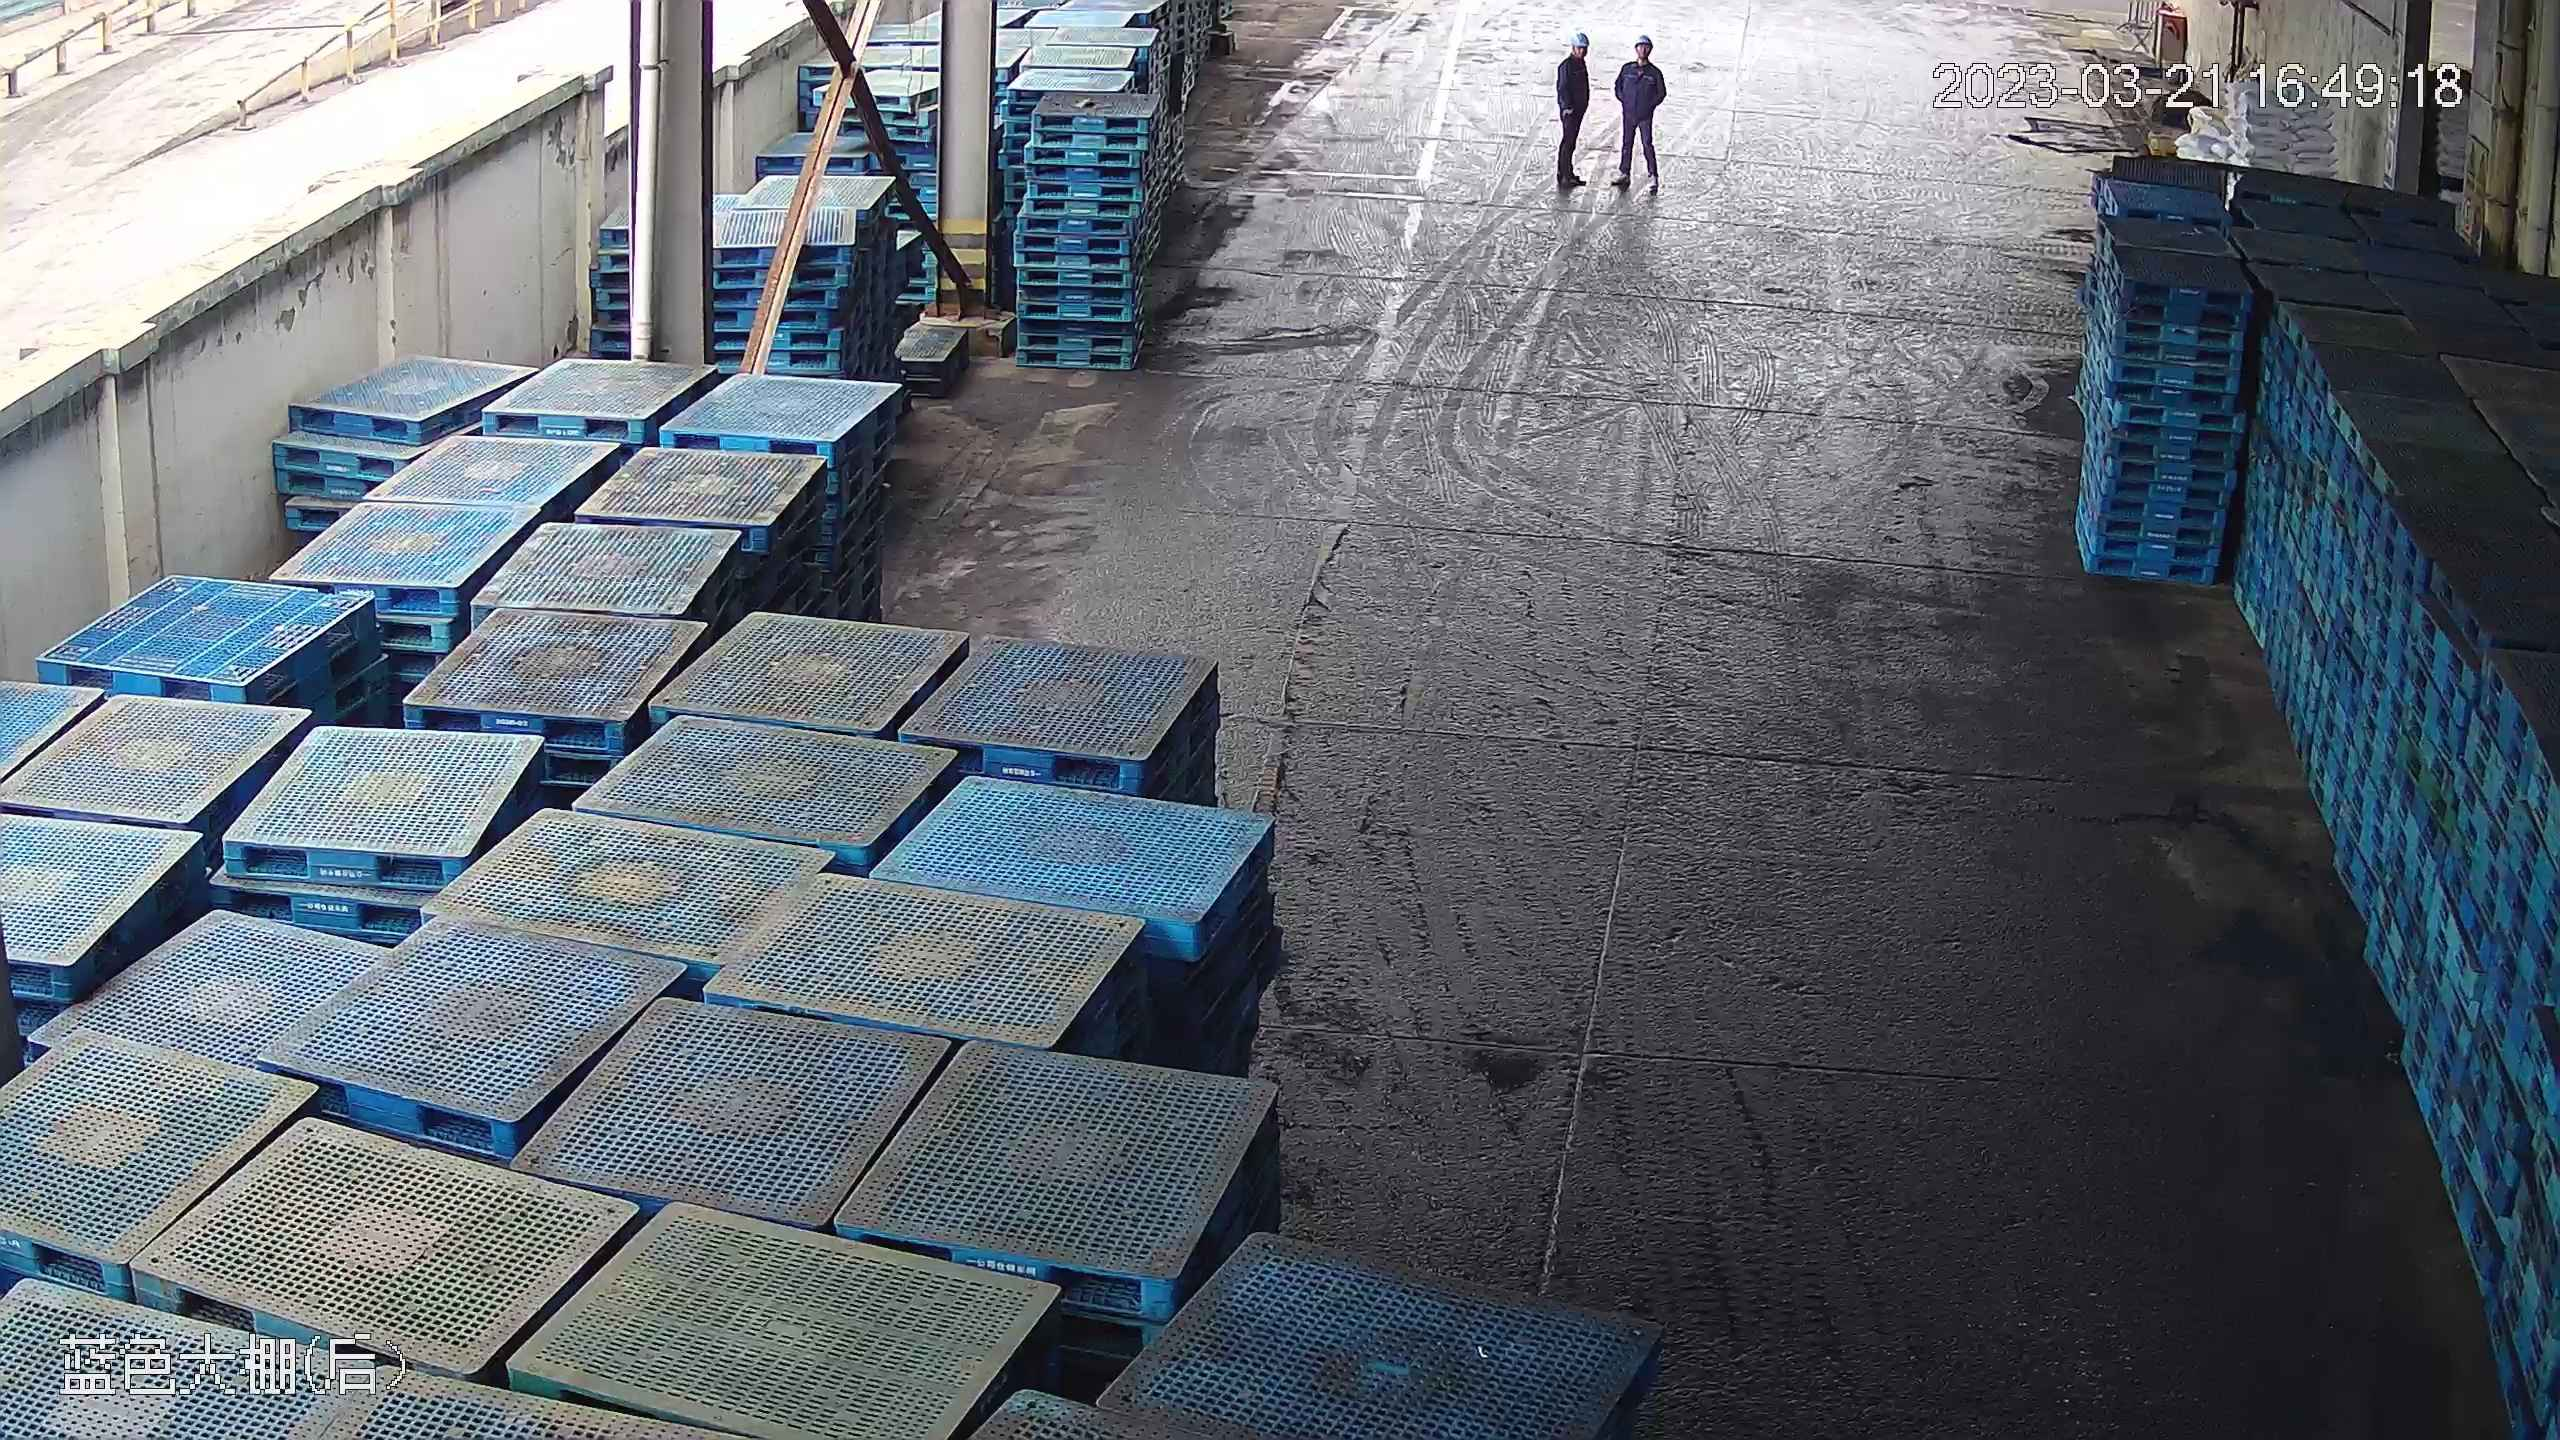head: (1617, 31, 1665, 83), (1557, 32, 1595, 87)
helmet: (1627, 31, 1651, 52), (1565, 31, 1586, 50)
people: (1612, 28, 1670, 190), (1554, 30, 1597, 192)
